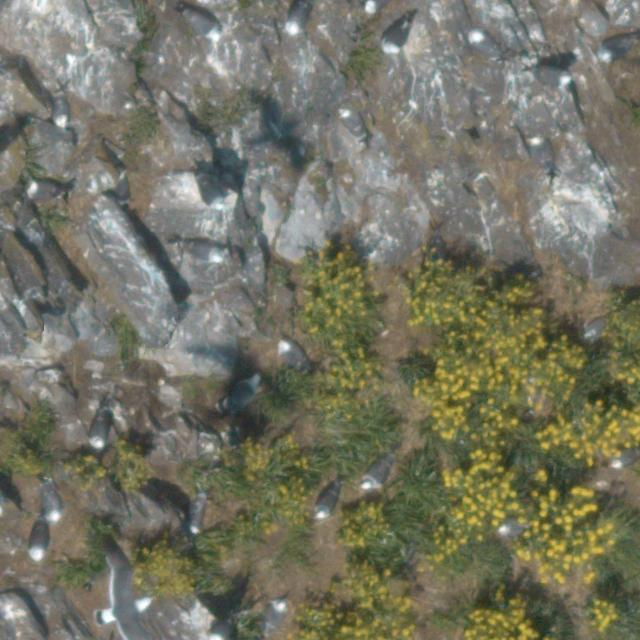F: (101, 553, 156, 638)
umineko: (529, 135, 559, 178), (180, 239, 227, 264), (184, 12, 219, 36), (225, 382, 257, 408), (364, 458, 391, 488), (383, 22, 408, 51), (29, 522, 48, 560), (45, 486, 63, 521), (600, 38, 630, 59), (314, 489, 334, 520), (264, 601, 285, 629), (286, 4, 306, 33), (90, 416, 108, 448), (280, 342, 304, 366), (190, 497, 206, 532), (28, 183, 62, 199), (342, 112, 362, 139), (471, 34, 496, 55), (613, 449, 639, 467), (498, 520, 526, 536), (584, 318, 604, 339), (54, 96, 68, 125), (364, 0, 388, 12), (118, 178, 130, 202)
